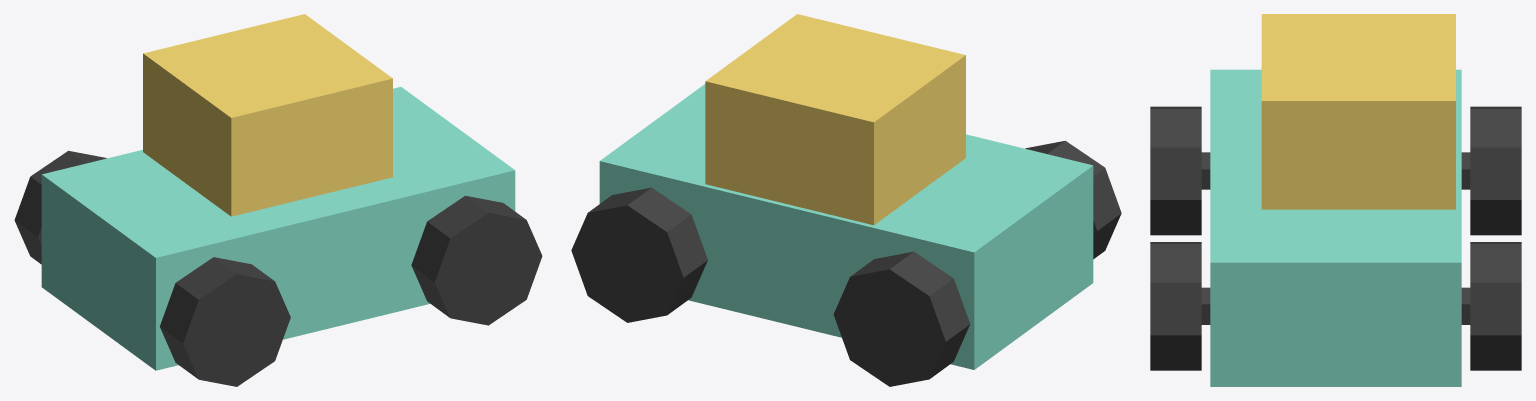
The picture shows the model from 3 angles, left to right: view 1: azimuth 30°, elevation 25°; view 2: azimuth 150°, elevation 25°; view 3: azimuth 270°, elevation 25°; orthographic projection. The views are drawn at different scales.
Parts seen in each view (by area): view 1: Chassis, Body module, Wheel, Wheel.002, Wheel.001; view 2: Chassis, Body module, Wheel.003, Wheel.001, Wheel; view 3: Chassis, Body module, Wheel, Wheel.001, Wheel.002, Wheel.003, Wheel axle, Wheel axle.001.
Boxes of the visible parts, x1,y1,x2,y2 form: Chassis: (41,87,515,370); Body module: (143,14,392,216); Wheel: (159,257,290,386); Wheel.002: (411,195,542,325); Wheel.001: (14,150,106,264); Chassis: (599,84,1093,369); Body module: (705,14,965,225); Wheel.003: (571,187,707,322); Wheel.001: (833,251,969,386); Wheel: (1025,140,1121,259); Chassis: (1210,69,1461,386); Body module: (1261,14,1455,209); Wheel: (1150,106,1201,235); Wheel.001: (1470,106,1521,235); Wheel.002: (1150,242,1201,370); Wheel.003: (1470,242,1521,370); Wheel axle: (1201,152,1470,189); Wheel axle.001: (1201,287,1470,324).
Size of the model in its own units: 0.4 by 0.235 by 0.325.
1 material, 1 textured.
